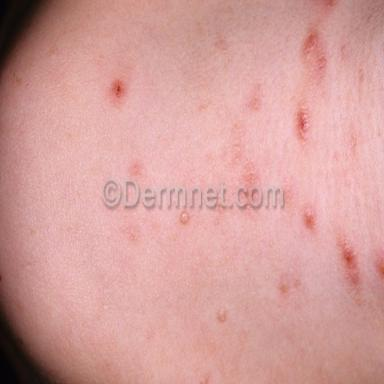Molluscum-Contagiosum: (217, 309, 227, 323), (180, 210, 188, 224)
